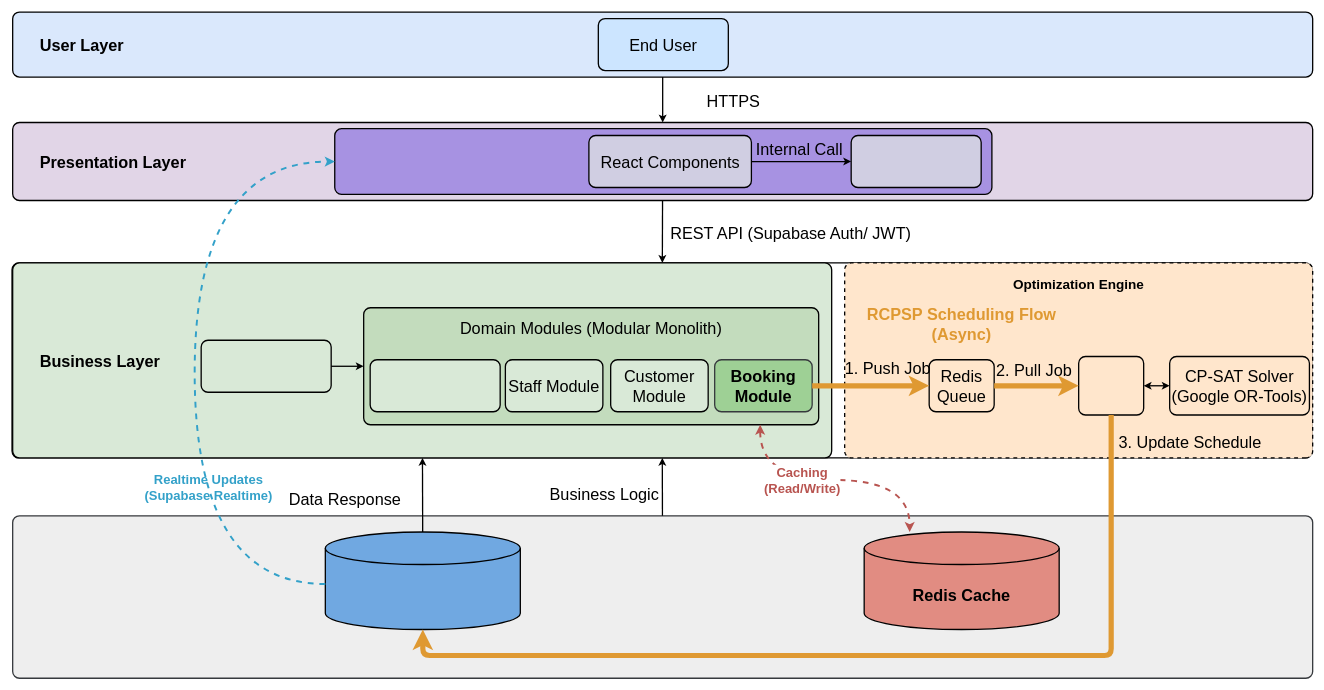
Image size: 1324x690. Some labels were removed from this diagram. The box of each missing label's shape, as (x1, y1, x2, y2) in pixels:
API Entrypoint (Python FastAPI): (200, 339, 332, 393)
Auth Module: (369, 359, 500, 412)
Data Layer: (12, 515, 1313, 679)
Next.js App Router (TailwindCSS + Shadcn/ui): (334, 128, 992, 195)
PostgreSQL (Supabase + RLS): (324, 531, 521, 630)
Server Actions: (850, 135, 982, 188)
Solver Worker: (1078, 356, 1144, 415)
